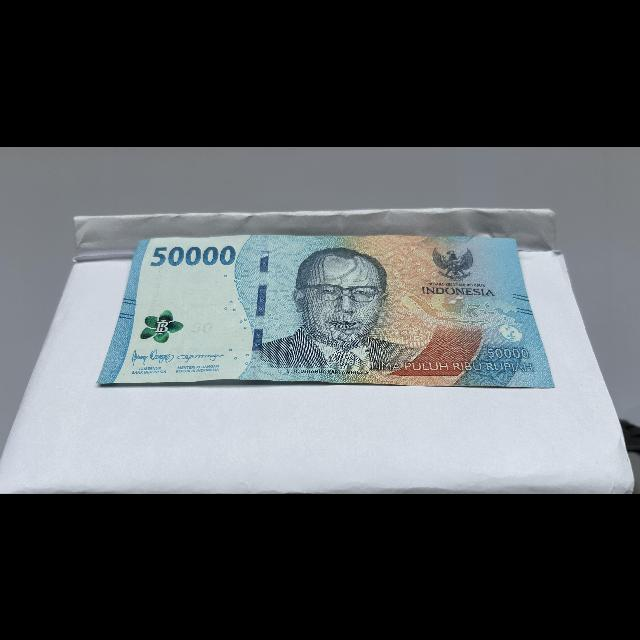Asli-50k: (94, 235, 558, 391)
Tinta-Asli-50k: (138, 304, 188, 349)
